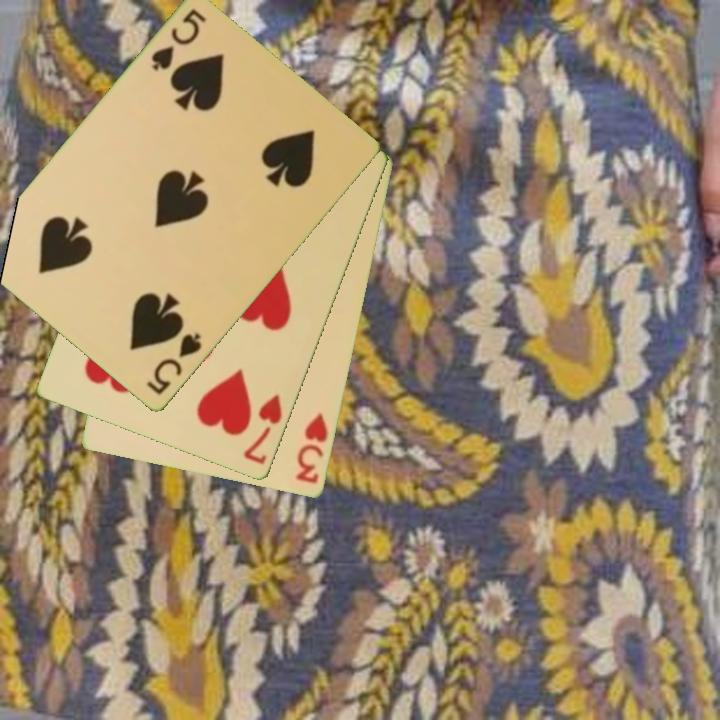3h: (293, 410, 331, 487)
5s: (147, 5, 210, 75), (143, 330, 205, 399)
7h: (240, 391, 285, 468)
